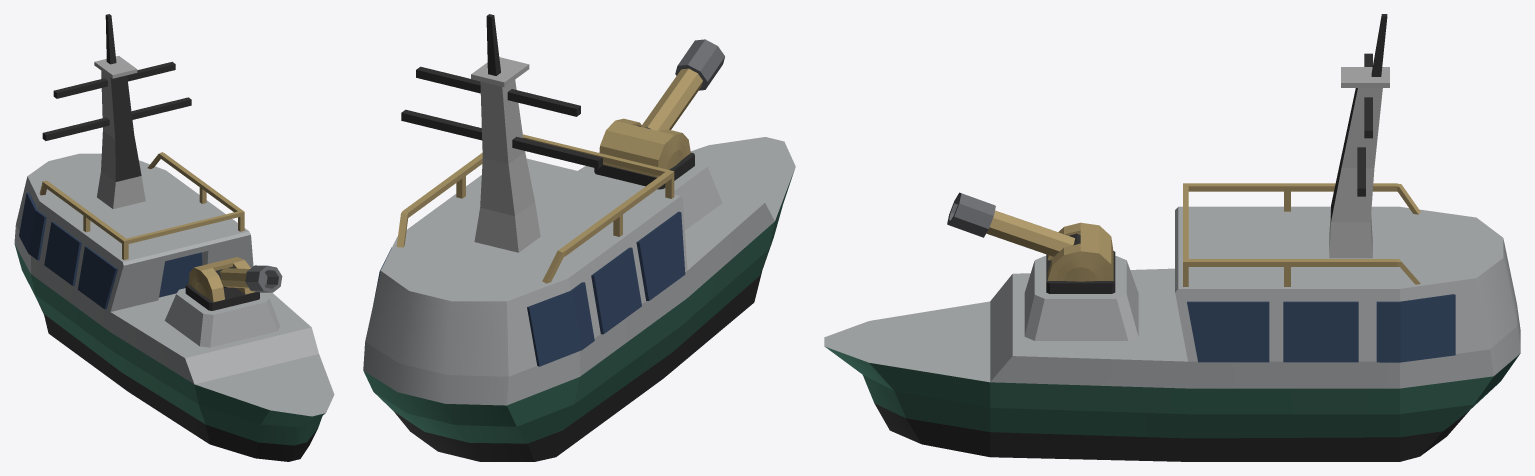
File: Naval.fbx
3 renders of one model, left to right at view 1: azimuth 30°, elevation 25°; view 2: azimuth 150°, elevation 25°; view 3: azimuth 270°, elevation 25°, orthographic. The views are drawn at different scales.
Parts seen in each view (by area): view 1: Naval; view 2: Naval; view 3: Naval.
Boxes of the visible parts, <box> form: Naval: <box>14,14,334,461</box>; Naval: <box>363,14,795,461</box>; Naval: <box>824,14,1520,461</box>.
Size of the model in its own units: 197 by 393 by 603.
